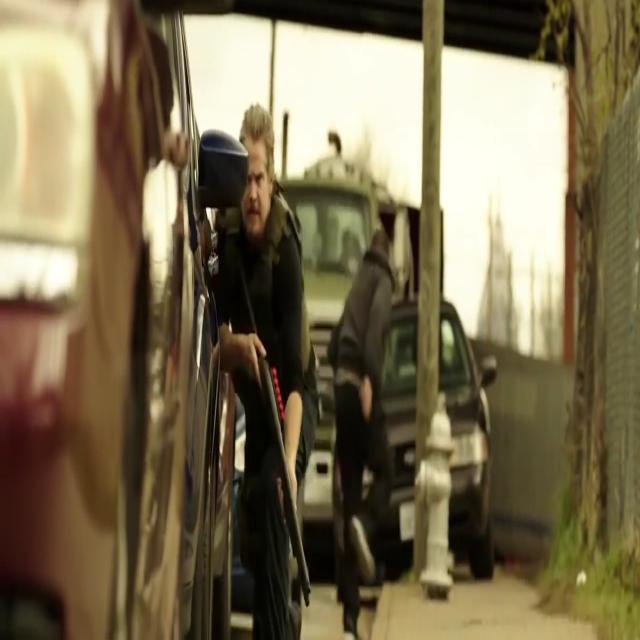Weapon: (196, 238, 332, 602)
